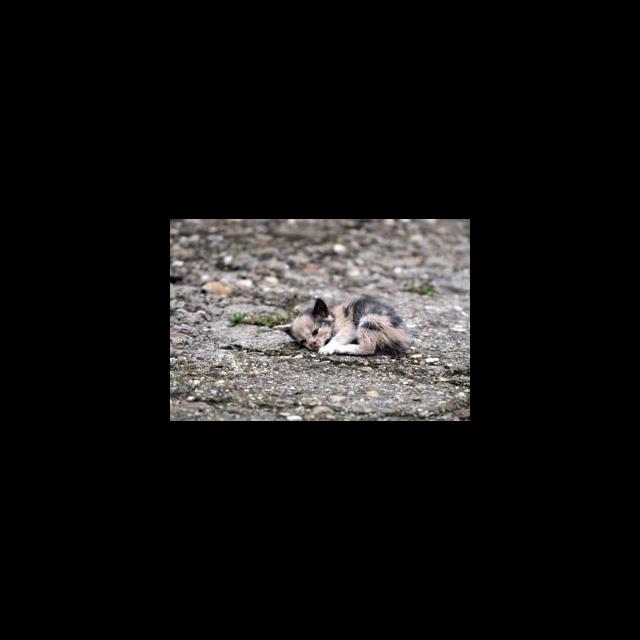animals: (261, 283, 419, 368)
